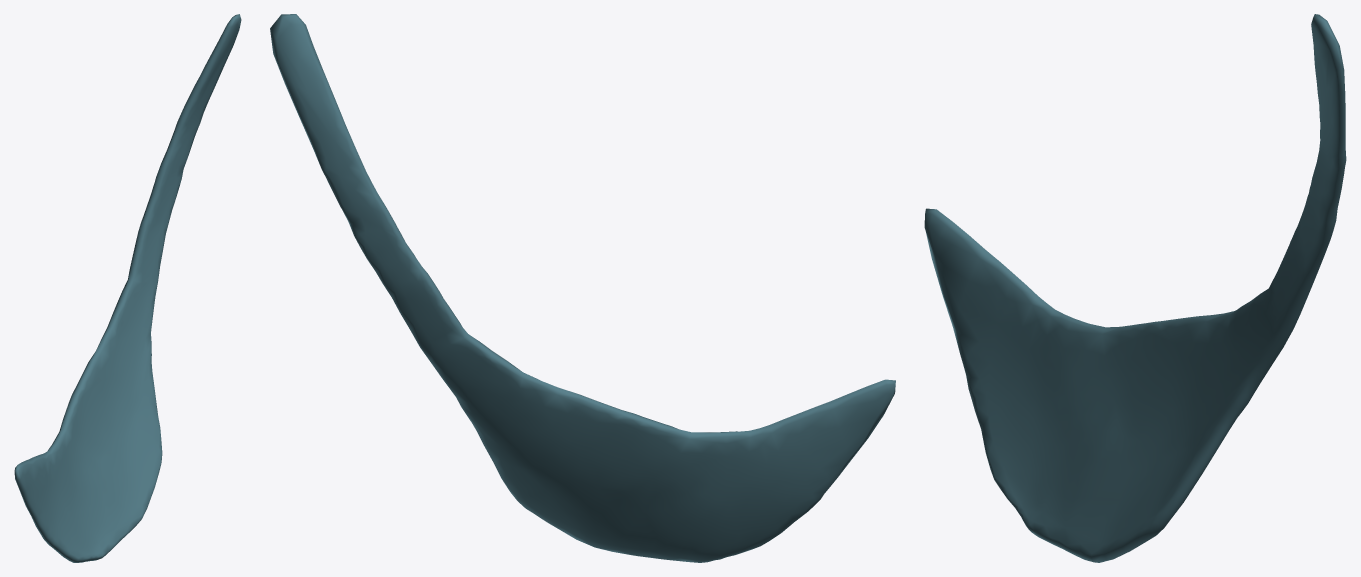
File: Latissimus_dorsi_apex_scapula_right.glb
3 views of the same model, side by side, from view 1: azimuth 30°, elevation 25°; view 2: azimuth 150°, elevation 25°; view 3: azimuth 270°, elevation 25° (orthographic). The views are drawn at different scales.
Parts seen in each view (by area): view 1: Latissimus_dorsi_on_apex_of_the_scapula.r_Generated_Mesh_Fro; view 2: Latissimus_dorsi_on_apex_of_the_scapula.r_Generated_Mesh_Fro; view 3: Latissimus_dorsi_on_apex_of_the_scapula.r_Generated_Mesh_Fro.
Boxes of the visible parts, bbox=[...] form: Latissimus_dorsi_on_apex_of_the_scapula.r_Generated_Mesh_Fro: bbox=[14, 14, 241, 562]; Latissimus_dorsi_on_apex_of_the_scapula.r_Generated_Mesh_Fro: bbox=[270, 14, 895, 562]; Latissimus_dorsi_on_apex_of_the_scapula.r_Generated_Mesh_Fro: bbox=[924, 14, 1346, 562].
Bounding box in the file's own units: 0.022 × 0.0255 × 0.014.
